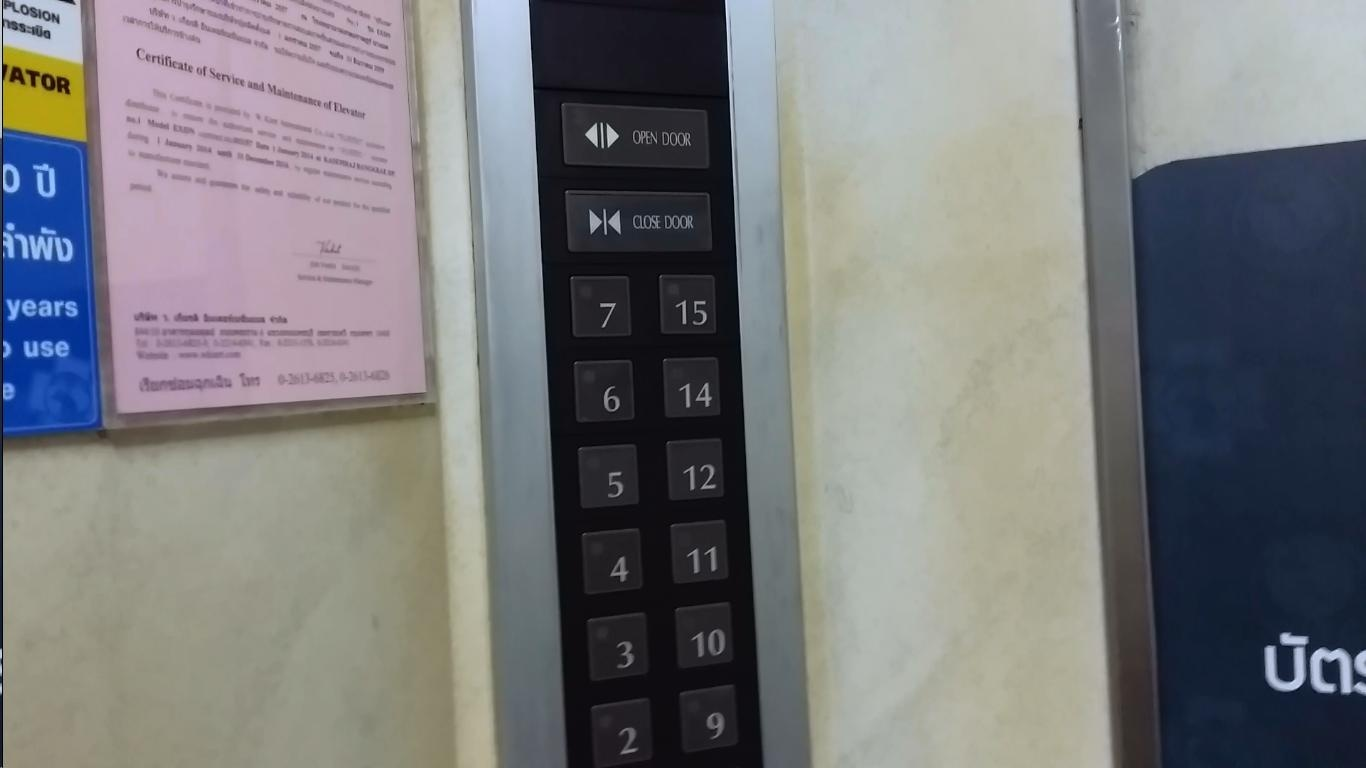10: (669, 601, 737, 671)
11: (666, 517, 732, 586)
12: (663, 436, 728, 503)
14: (659, 355, 724, 421)
15: (656, 272, 718, 337)
2: (588, 695, 654, 768)
3: (585, 611, 650, 683)
4: (577, 526, 645, 598)
5: (574, 442, 643, 511)
6: (570, 358, 638, 425)
7: (568, 275, 633, 339)
9: (676, 682, 741, 756)
close: (565, 190, 716, 254)
open: (561, 101, 712, 171)
